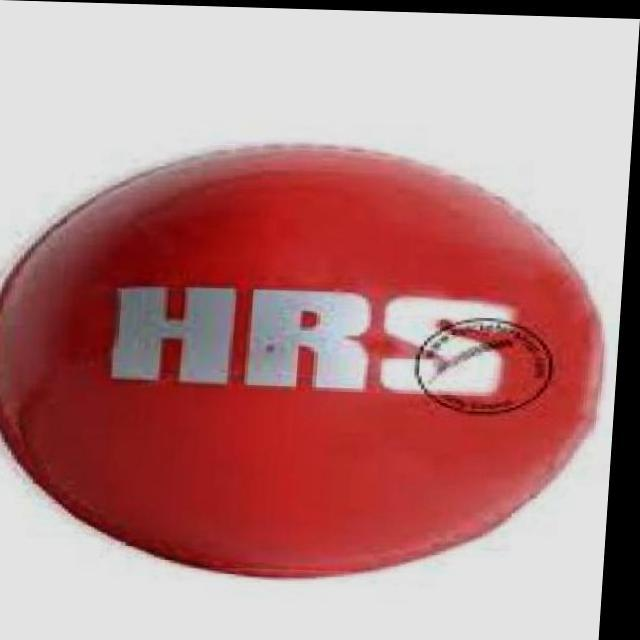-: (0, 132, 633, 575)
